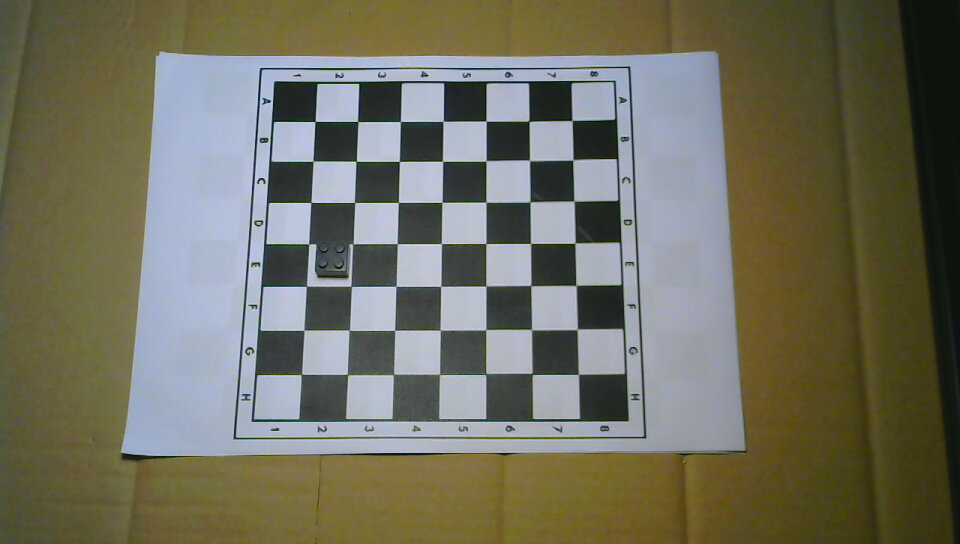bp: (312, 238, 351, 279)
